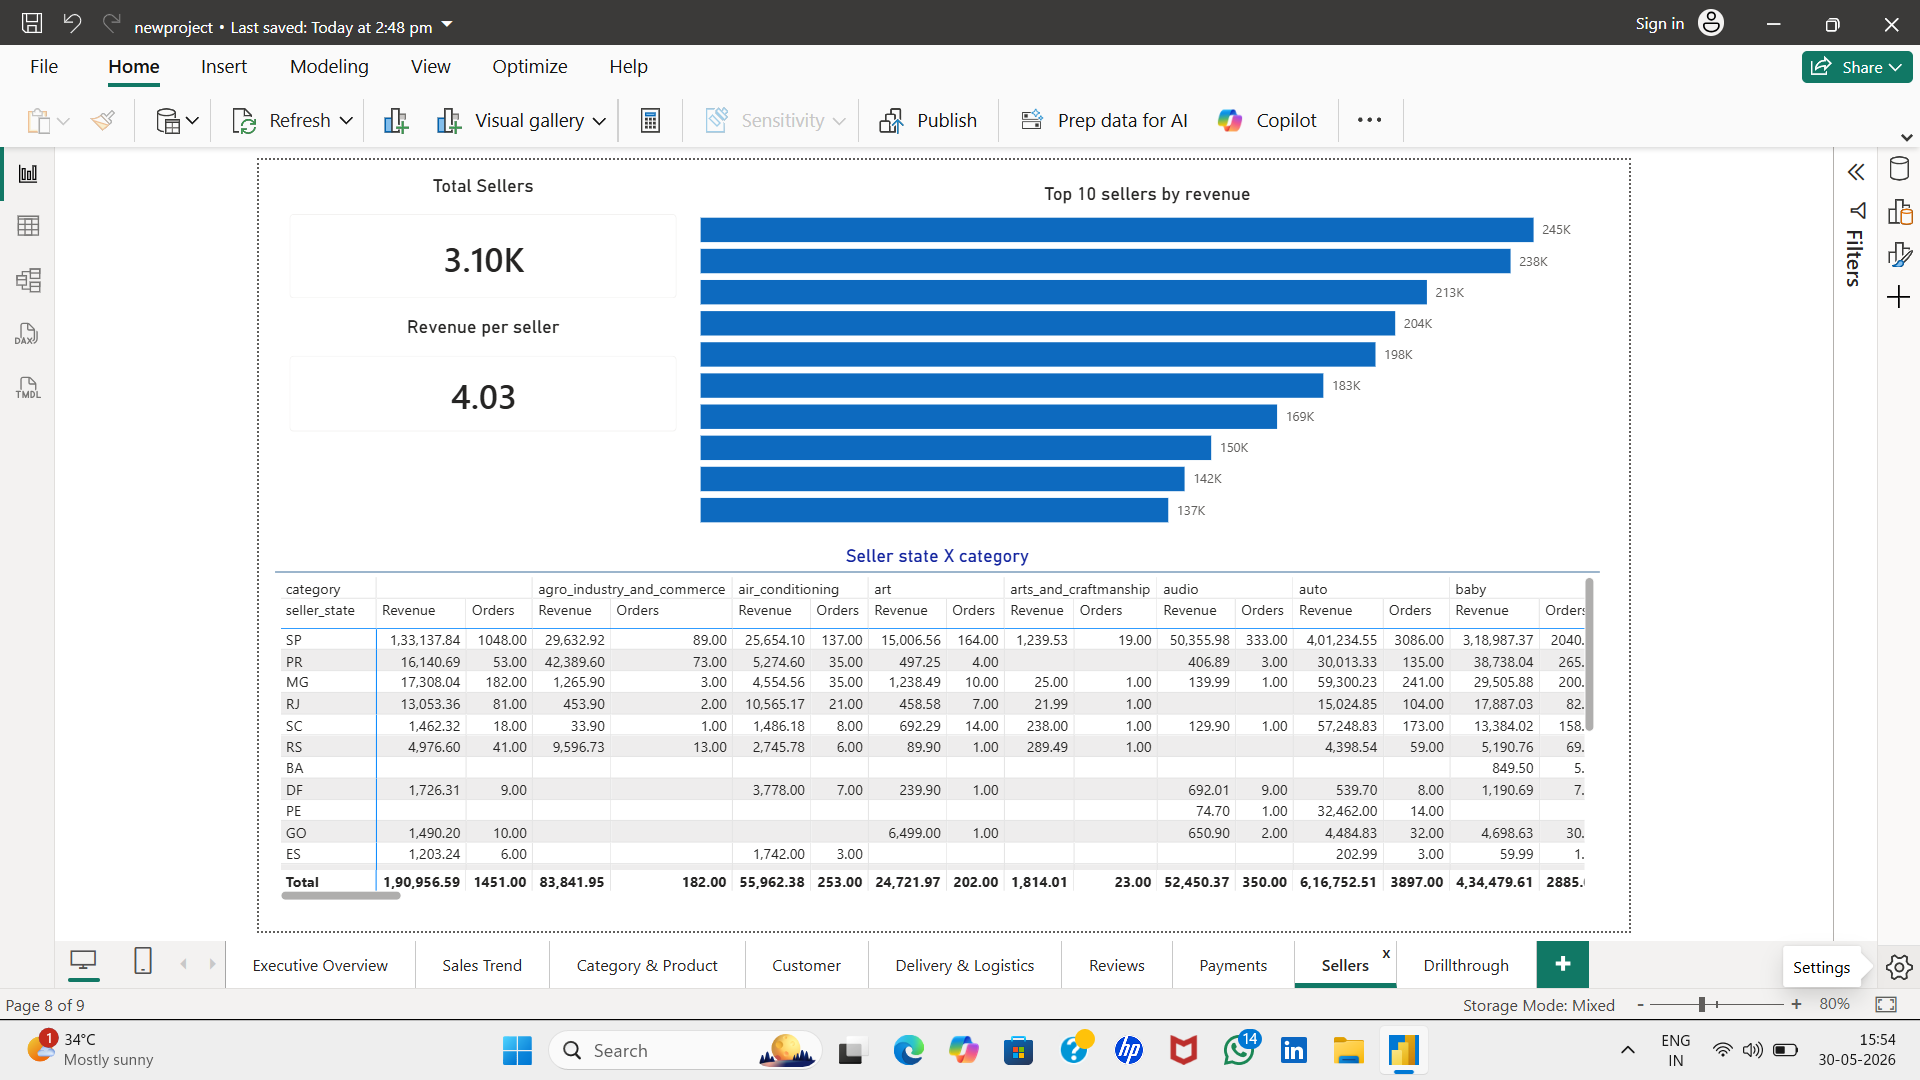

Layout of this report page (visuals, bound fields, positions):
{"tool":"powerbi","page":{"name":"Sellers","canvas":[1280,720],"ordinal":7},"visuals":[{"type":"cardVisual","title":"Total Sellers","fields":{"Data":["public bi_fact_sales.Sellers"]},"box":[10.8,13.4,396.5,133.1],"z":0},{"type":"cardVisual","title":"Revenue per seller","fields":{"Data":["public bi_fact_sales.Avg Rating"]},"box":[10.8,146.5,396.5,125],"z":1000},{"type":"barChart","title":"Top 10 sellers by revenue","fields":{"Y":["public bi_fact_sales.Revenue"],"Category":["public bi_fact_sales.seller_id"]},"box":[407.3,21.5,845.5,322.6],"z":2000},{"type":"pivotTable","title":"Seller state X category","fields":{"Values":["public bi_fact_sales.Revenue","public bi_fact_sales.Orders"],"Columns":["public bi_fact_sales.category"],"Rows":["public bi_fact_sales.seller_state"]},"box":[14.8,360.2,1238,336],"z":3000}]}

Visuals, with their boxes on the page's 1280x720 design canvas (x1, y1, x2, y2). These are canvas units, not pixel positions in the 1920x1080 screenshot, which may show the page scaled, cropped or inside an application window:
"Total Sellers" cardVisual: bbox=[11, 13, 407, 146]
"Revenue per seller" cardVisual: bbox=[11, 146, 407, 272]
"Top 10 sellers by revenue" barChart: bbox=[407, 22, 1253, 344]
"Seller state X category" pivotTable: bbox=[15, 360, 1253, 696]
